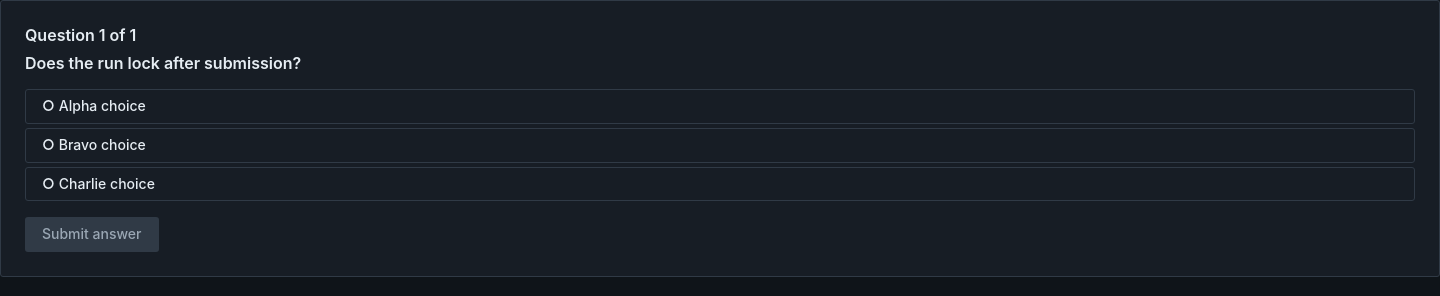
it: QuestionRun: answering one question › enables Submit only once a choice is selected
The width and height of the screenshot is (1440, 296).
Check: the button "Submit answer" is disabled, box [25,217,158,252]
Click the button "○Alpha choice": click(102, 106) [25,89,1415,124]
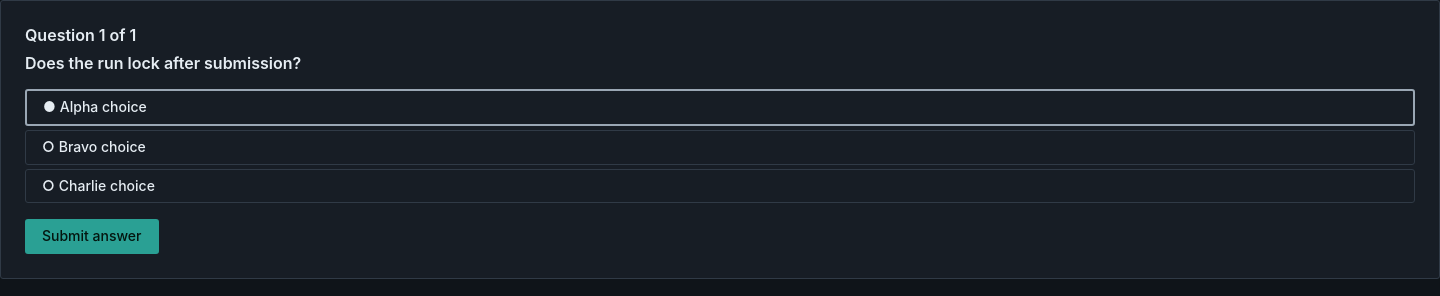
Check: the button "Submit answer" is enabled, box [25,219,158,254]
